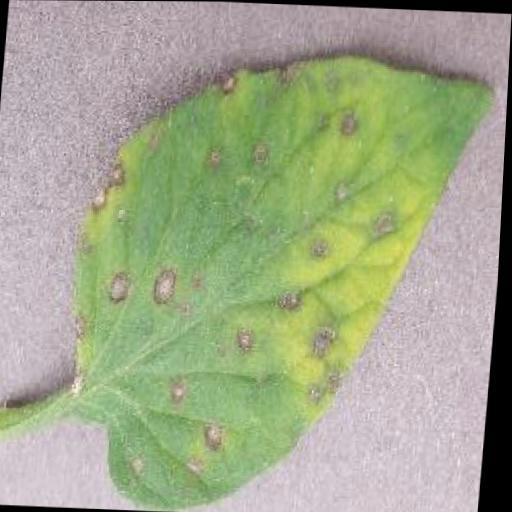Septoria: (56, 40, 501, 512)
